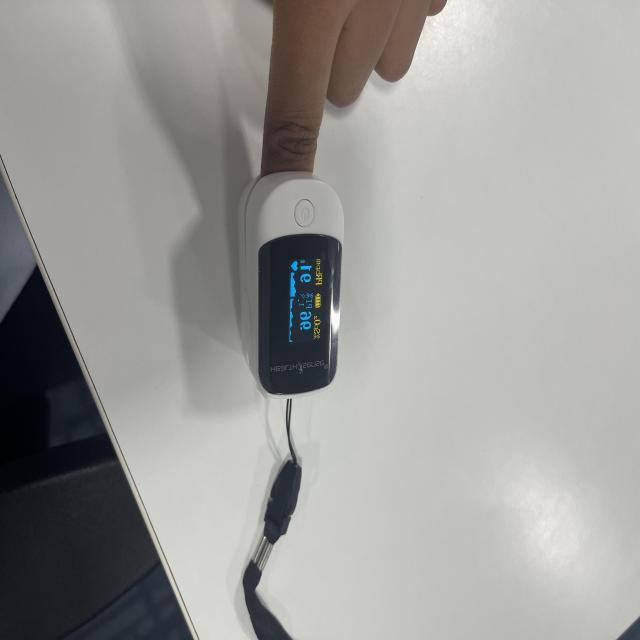spo2: (234, 174, 346, 400)
